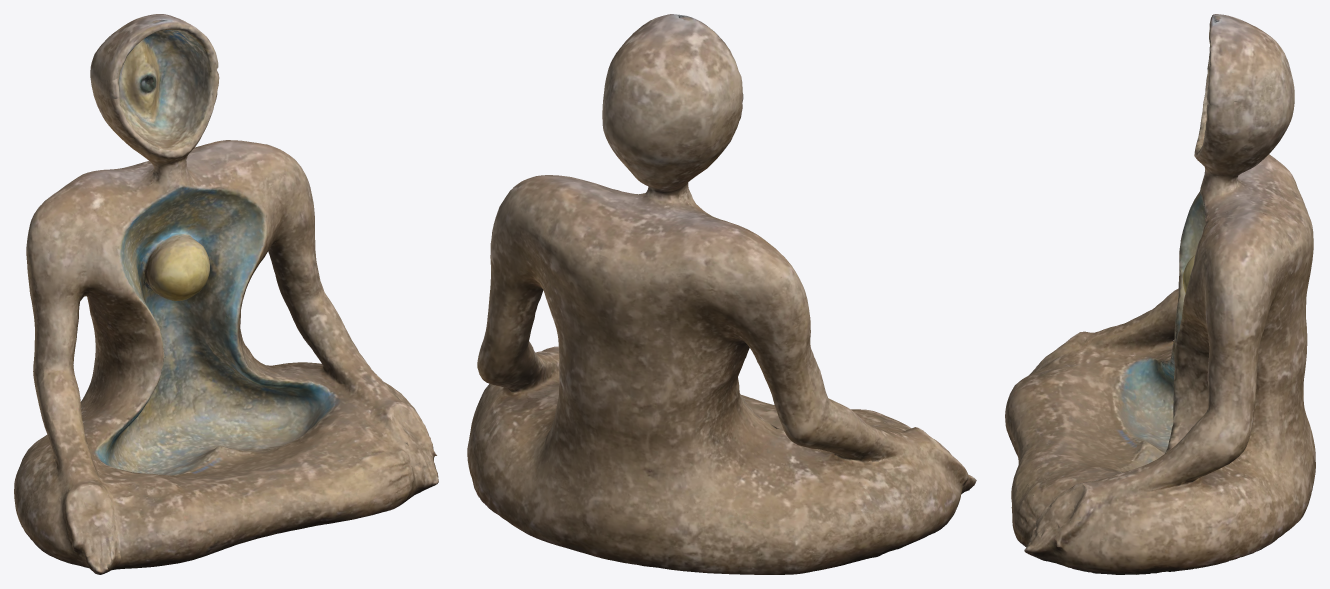
File: meditating.glb
3 renders of one model, left to right at view 1: azimuth 30°, elevation 25°; view 2: azimuth 150°, elevation 25°; view 3: azimuth 270°, elevation 25°, orthographic. The views are drawn at different scales.
Parts seen in each view (by area): view 1: low.001; view 2: low.001; view 3: low.001.
Part boxes in pixels (<box>): low.001: <box>14,14,438,574</box>; low.001: <box>467,14,976,574</box>; low.001: <box>1005,14,1315,574</box>.
Bounding box in the file's own units: 0.4568 × 0.5 × 0.3103.
Materials: 1 (1 with a texture image).
